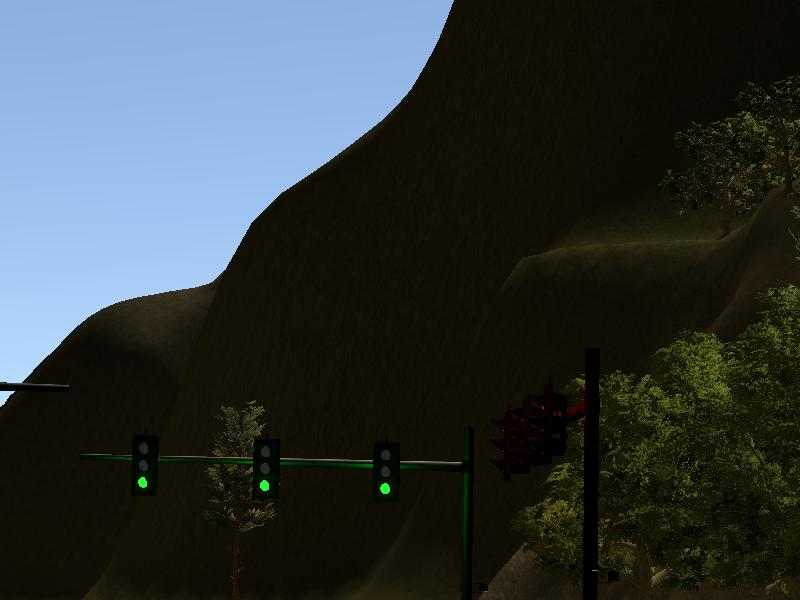Green: (131, 435, 157, 494), (252, 437, 278, 496), (373, 443, 398, 501)
